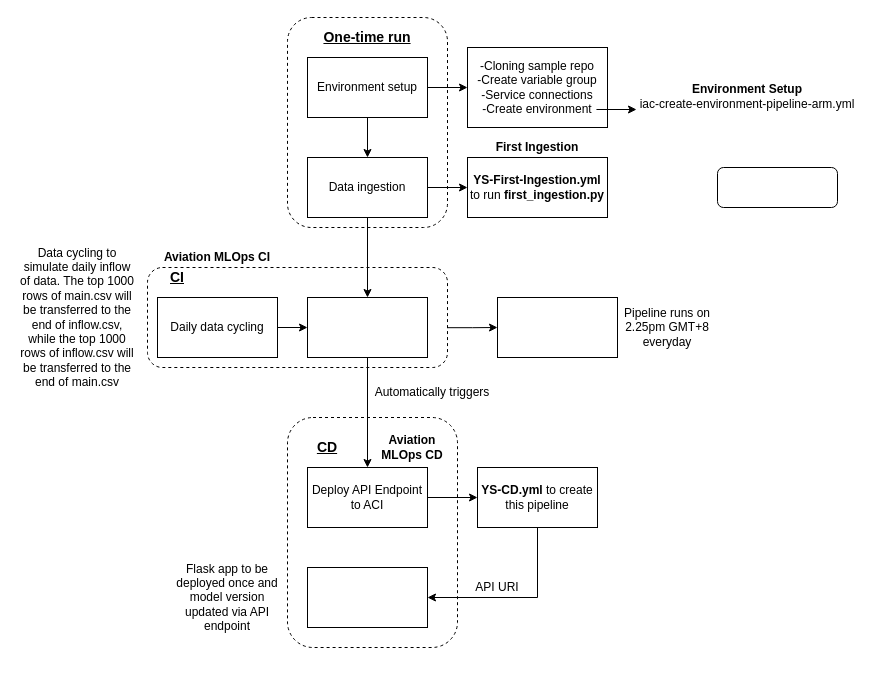
Image size: 874x695. Some labels were removed from this diagram. Each missing label, with the box of its shape:
Azure usage: $94.53: (716, 166, 838, 208)
Deploy Flask app: (306, 566, 428, 628)
Train, Evaluate, Register Model: (306, 296, 428, 358)
YS-CI.yml to create this pipeline: (496, 296, 618, 358)
